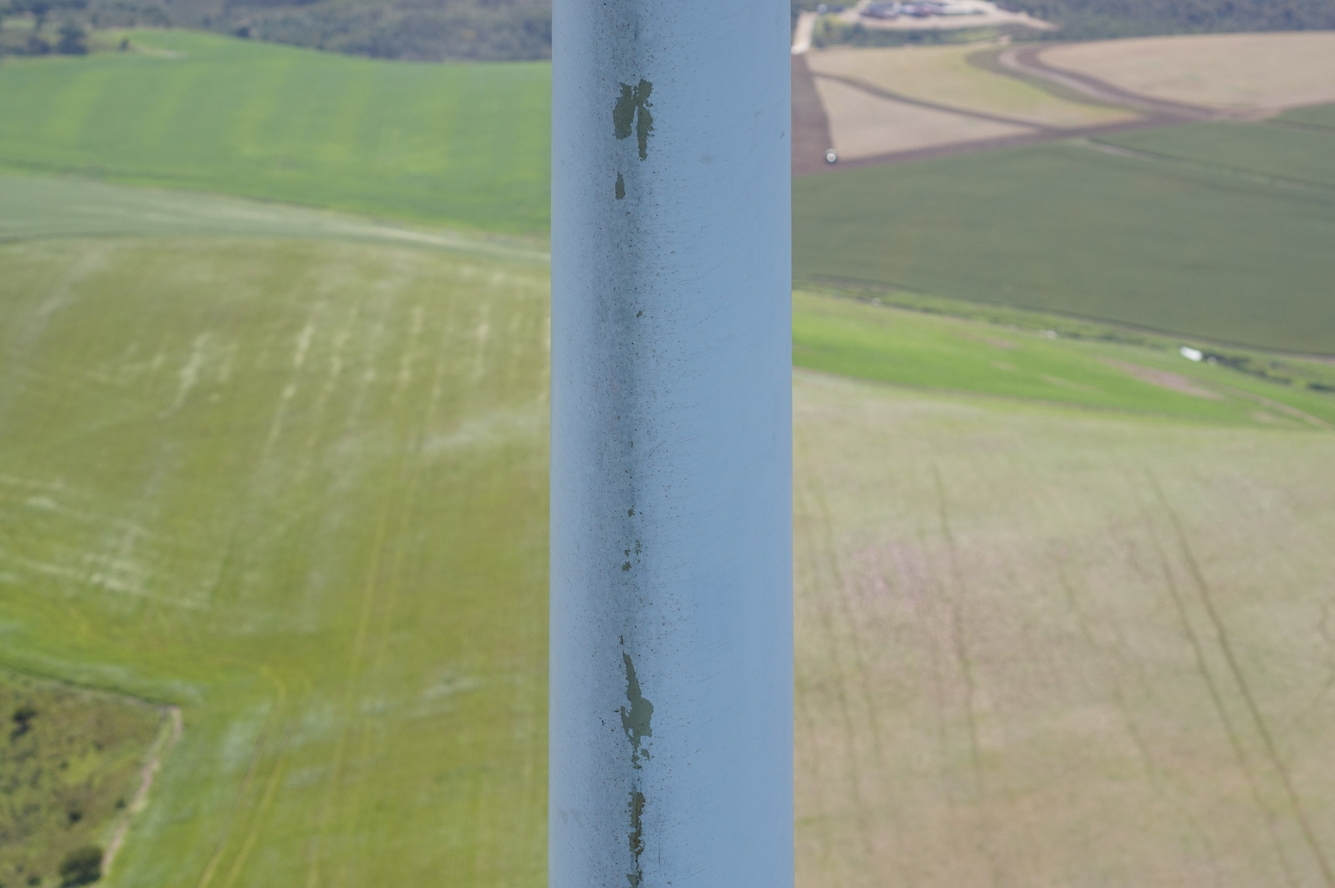Damage: (616, 651, 654, 768), (608, 74, 654, 164), (625, 785, 646, 886), (612, 171, 631, 203)
